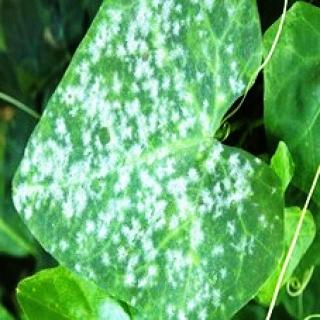grey mildew: (16, 14, 268, 320)
